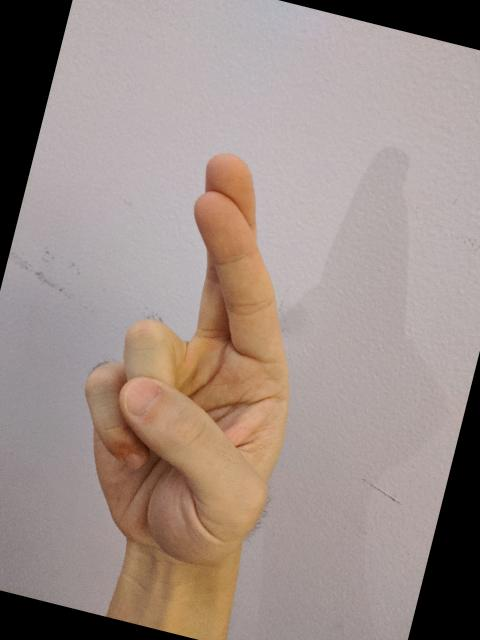R: (43, 124, 357, 578)
